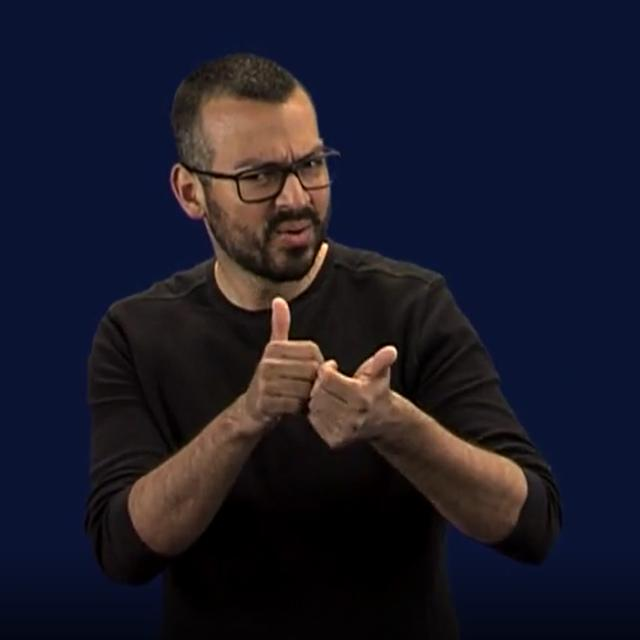how: (246, 297, 398, 449)
